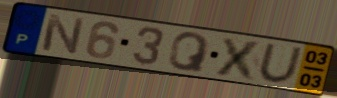3: (131, 26, 168, 68)
6: (84, 20, 120, 60)
N: (39, 12, 87, 57)
Q: (166, 31, 212, 74)
U: (257, 42, 305, 85)
X: (211, 34, 266, 82)
